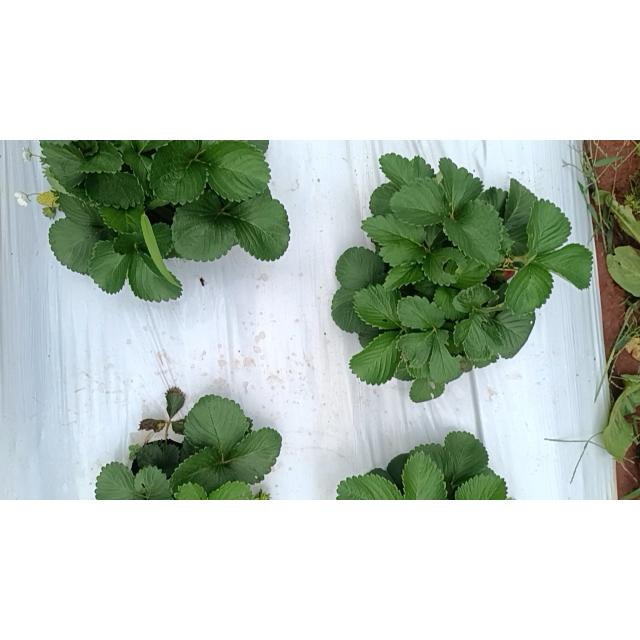no-maduro: (35, 190, 57, 207)
